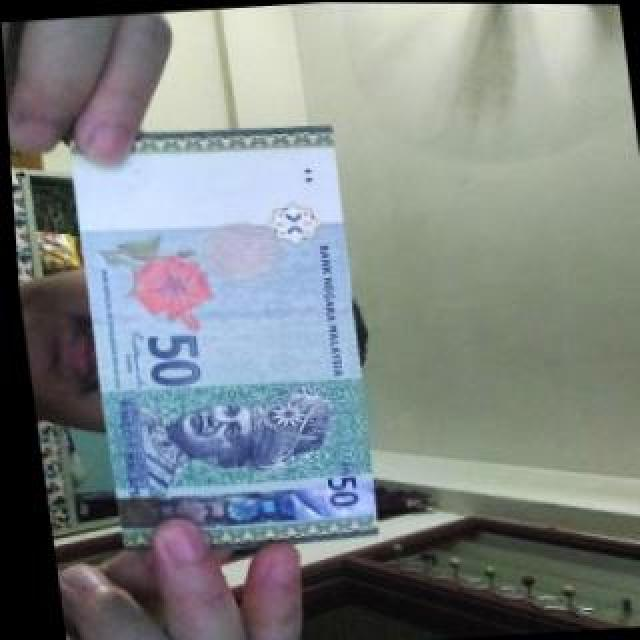50 Ringgit: (62, 116, 385, 564)
